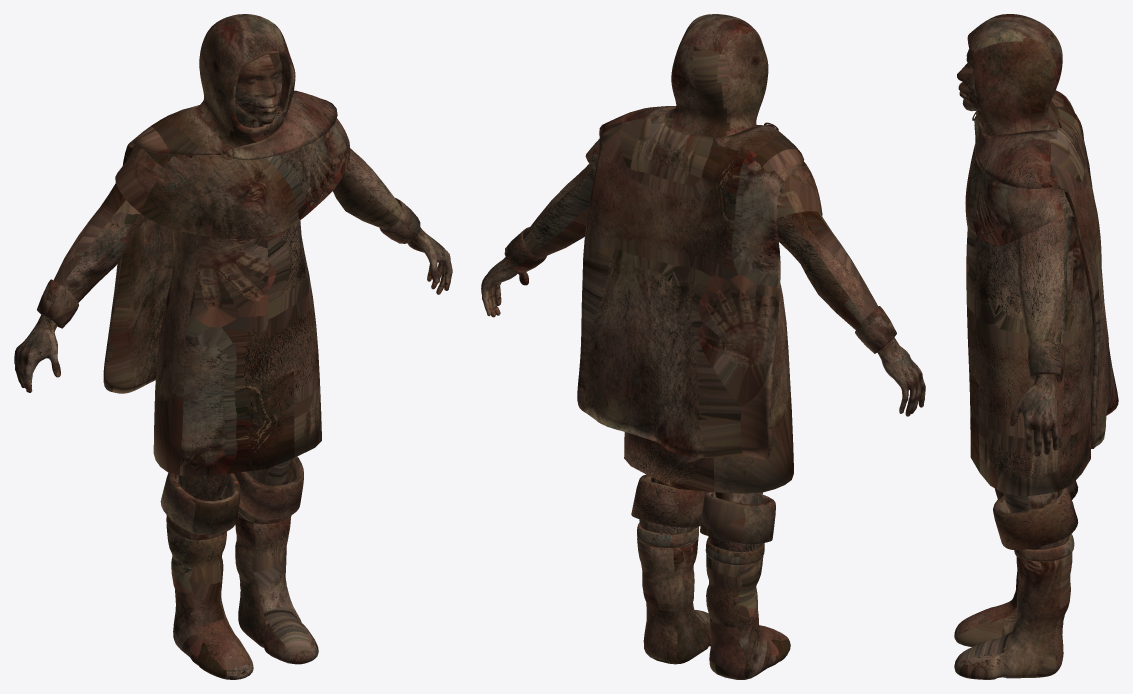
The model's file is peasant.fbx.
The picture shows the model from 3 angles, left to right: view 1: azimuth 30°, elevation 25°; view 2: azimuth 150°, elevation 25°; view 3: azimuth 270°, elevation 25°; orthographic projection.
Parts seen in each view (by area): view 1: Unity HD Render Pipeline (Metallic Standard)_2, Cube_Cube.003_1, Cube_Cube.002_Cube_Cube.004_4, coat_3, playermodel_1_0; view 2: coat_3, Cube_Cube.002_Cube_Cube.004_4, Unity HD Render Pipeline (Metallic Standard)_2, Cube_Cube.003_1, playermodel_1_0; view 3: Unity HD Render Pipeline (Metallic Standard)_2, Cube_Cube.003_1, Cube_Cube.002_Cube_Cube.004_4, coat_3, playermodel_1_0.
Part boxes in pixels (x1,y1,x2,y2): Unity HD Render Pipeline (Metallic Standard)_2: (37,106,420,475); Cube_Cube.003_1: (115,14,350,239); Cube_Cube.002_Cube_Cube.004_4: (160,456,318,679); coat_3: (103,90,337,393); playermodel_1_0: (14,53,452,500); coat_3: (577,106,804,459); Cube_Cube.002_Cube_Cube.004_4: (631,474,790,679); Unity HD Render Pipeline (Metallic Standard)_2: (504,164,896,493); Cube_Cube.003_1: (585,14,822,218); playermodel_1_0: (481,257,925,504); Unity HD Render Pipeline (Metallic Standard)_2: (966,216,1093,495); Cube_Cube.003_1: (965,14,1073,245); Cube_Cube.002_Cube_Cube.004_4: (954,480,1078,679); coat_3: (974,90,1118,448); playermodel_1_0: (957,49,1058,512).
Bounding box in the file's own units: 1742 × 2453 × 573.
Materials: 9 (9 with a texture image).
